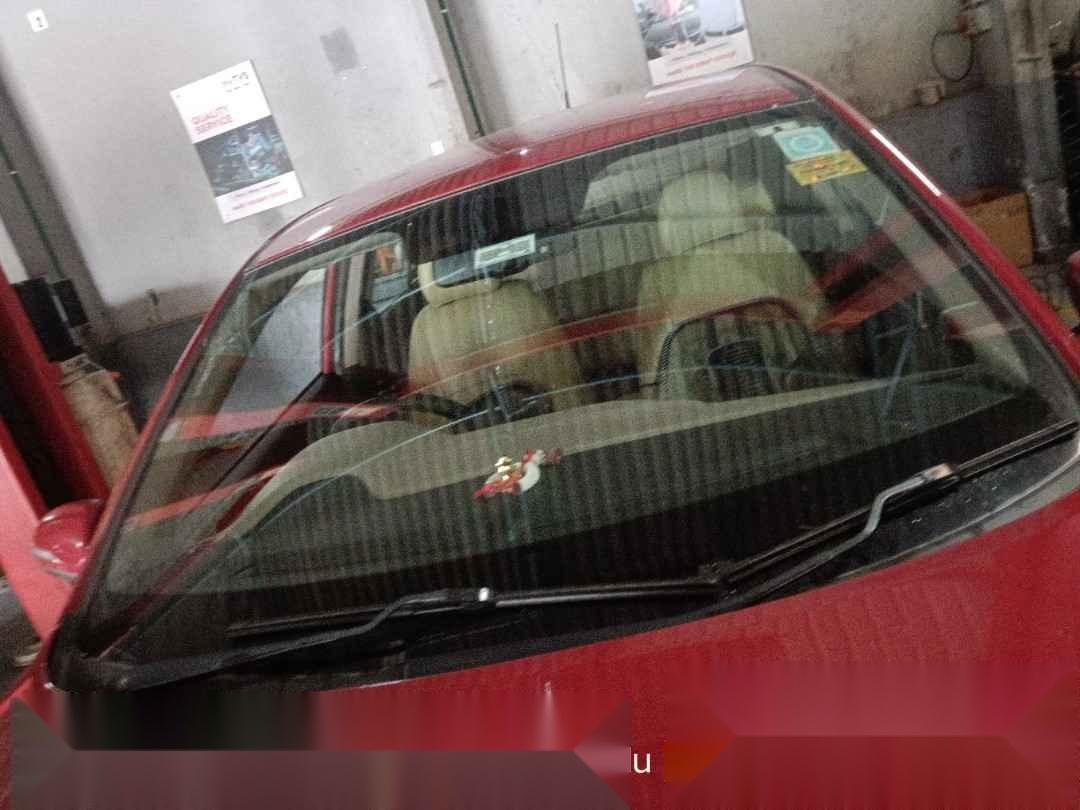FastTag: (454, 223, 561, 280)
not a FastTag: (782, 159, 873, 194), (771, 124, 842, 161)
